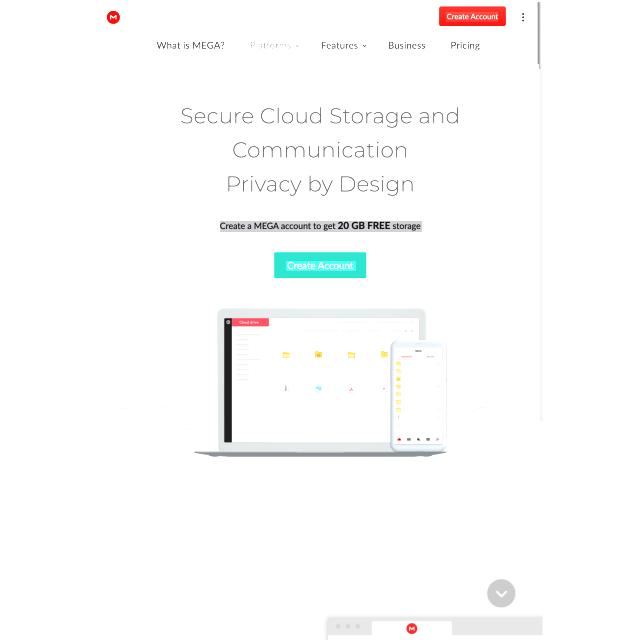CheckBox: (274, 252, 367, 279), (441, 6, 508, 26)
Input field: (219, 221, 422, 232)
alert: (322, 40, 370, 51), (252, 40, 304, 50)
bag: (96, 0, 540, 64)
card: (97, 64, 540, 474)
carousel: (523, 12, 528, 23)
data feed: (286, 261, 356, 271), (448, 12, 501, 22)
date picker: (107, 9, 124, 25)
decoration: (156, 37, 488, 53)
image: (179, 105, 461, 199)
